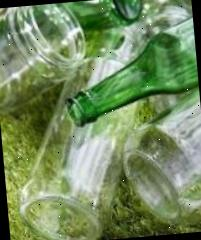glass: (55, 12, 201, 129)
